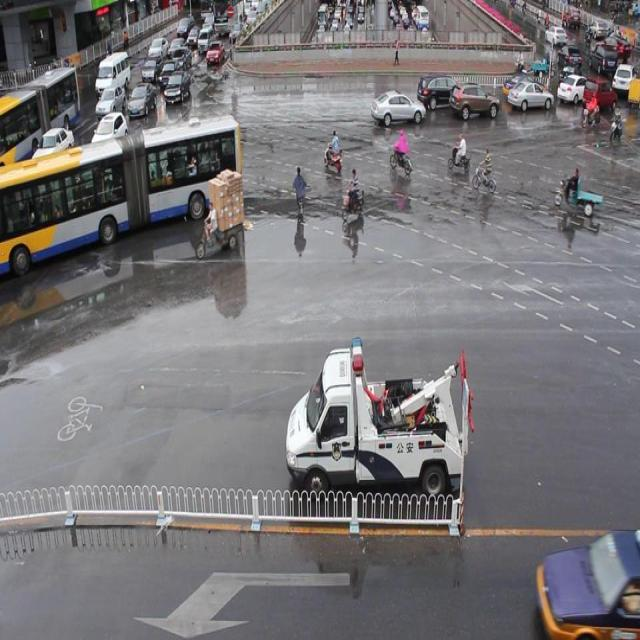bus: (285, 338, 464, 498)
car: (369, 88, 424, 125), (449, 80, 498, 118), (417, 76, 462, 109), (506, 78, 552, 110), (502, 73, 550, 99)
van: (1, 122, 240, 236)
